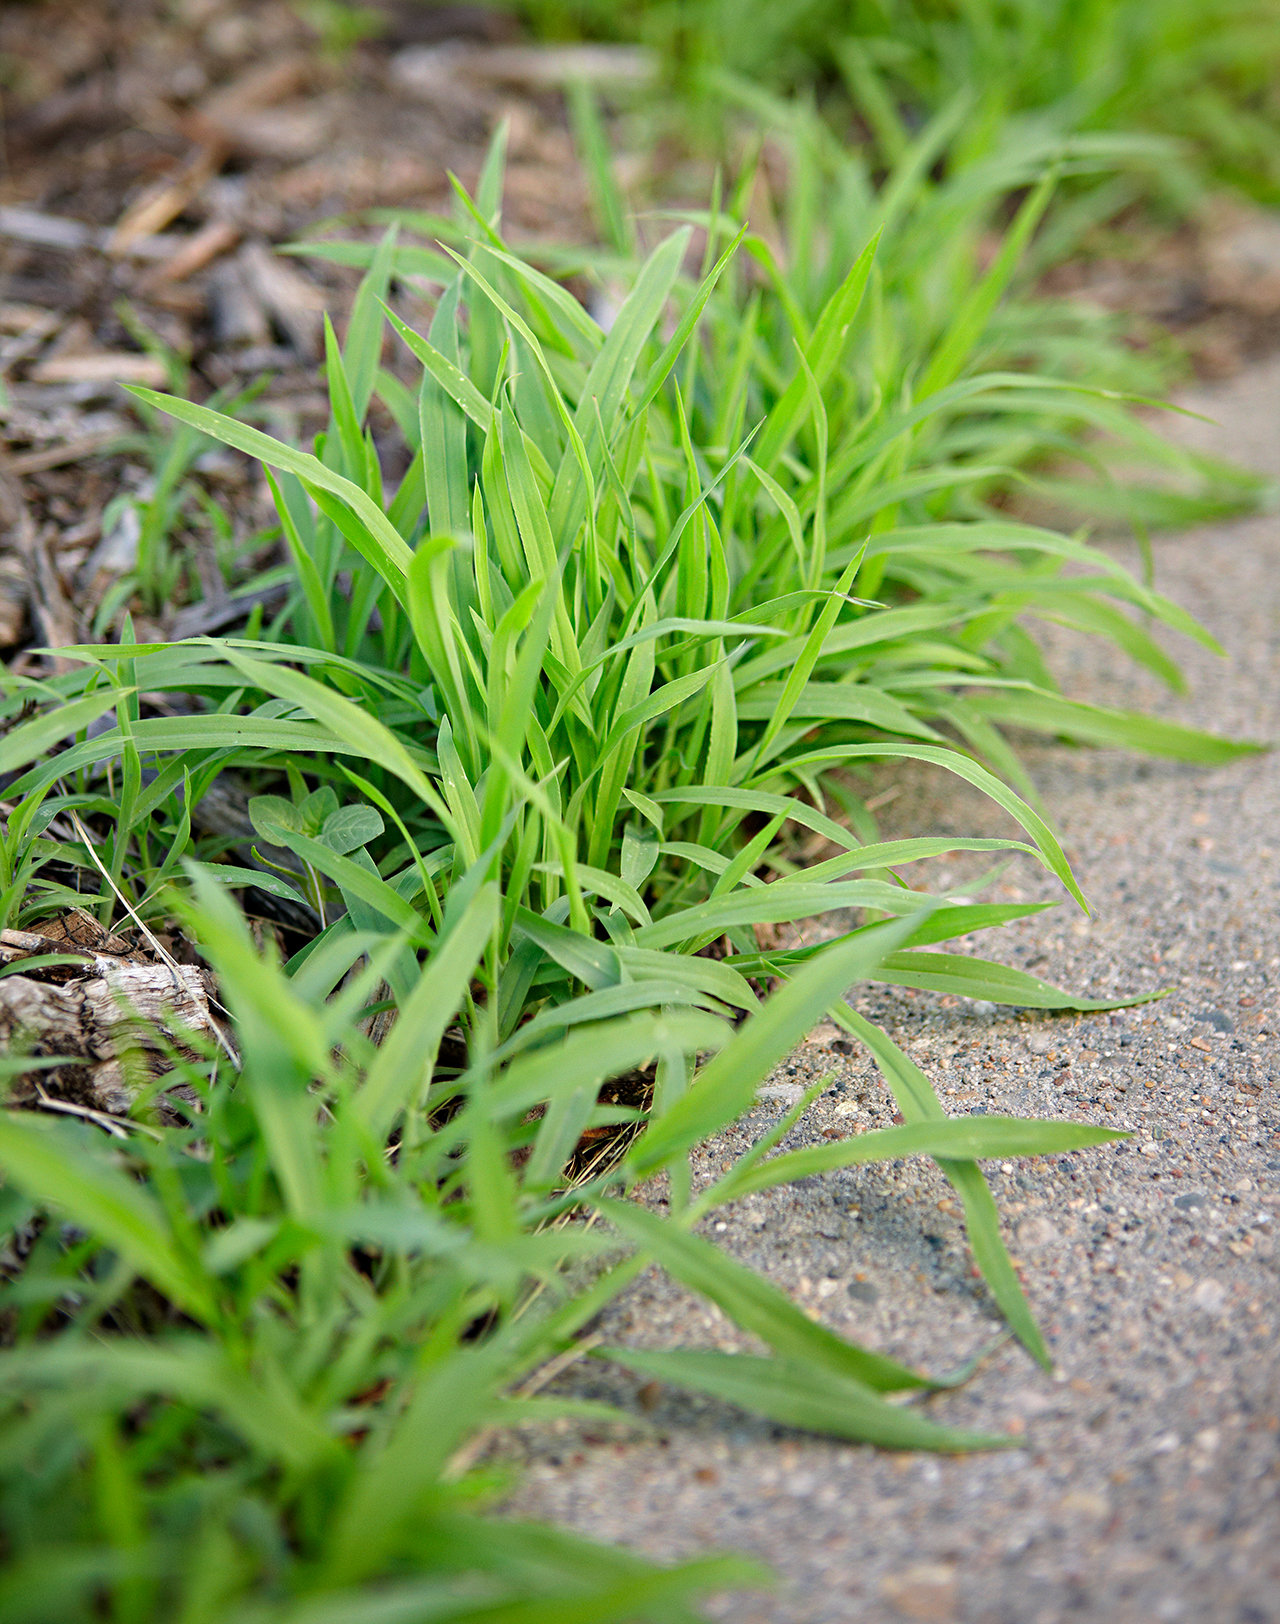crabgrass: (260, 232, 1055, 1250), (26, 1118, 473, 1624)
